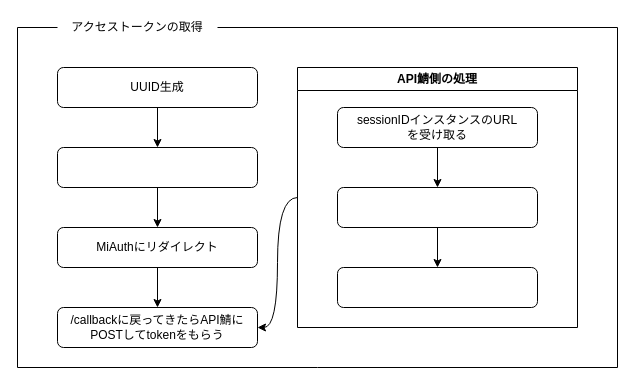
Image size: 636x386. Some labels were removed from this diagram. The centre of each missing label's shape, as x and y in pixels:
https://{host}/api/miauth/{session}/check にpostリク飛ばしてjsonを貰う: (x=437, y=207)
tokenをクライアントに返す: (x=437, y=287)
インスタンスのアドレスを求める: (x=157, y=167)
